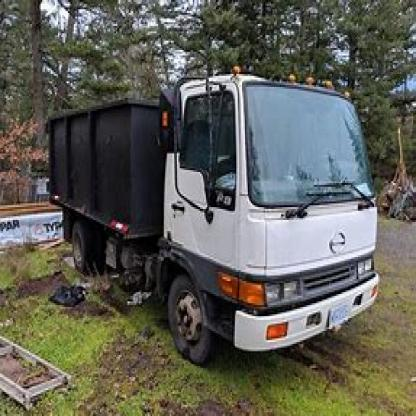dump_truck: (77, 57, 390, 379)
